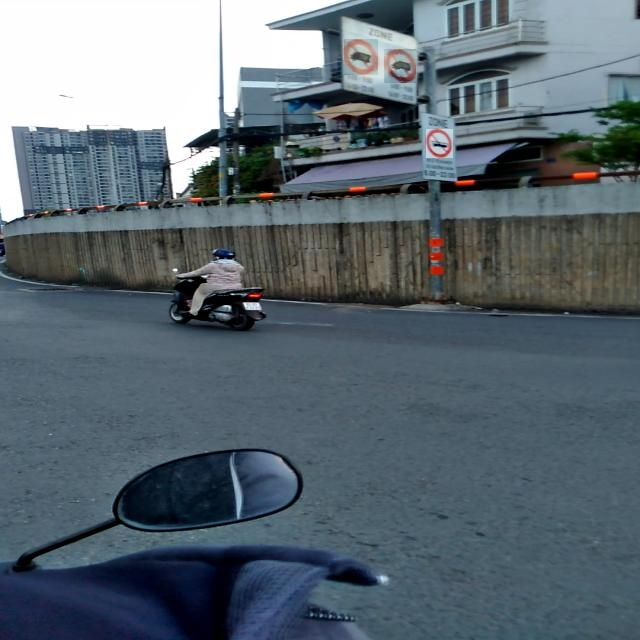bien_cam: (344, 39, 378, 75), (384, 49, 416, 83), (426, 129, 453, 158)
